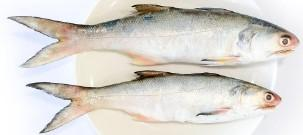Mullet: (6, 0, 302, 68), (25, 71, 284, 133)
